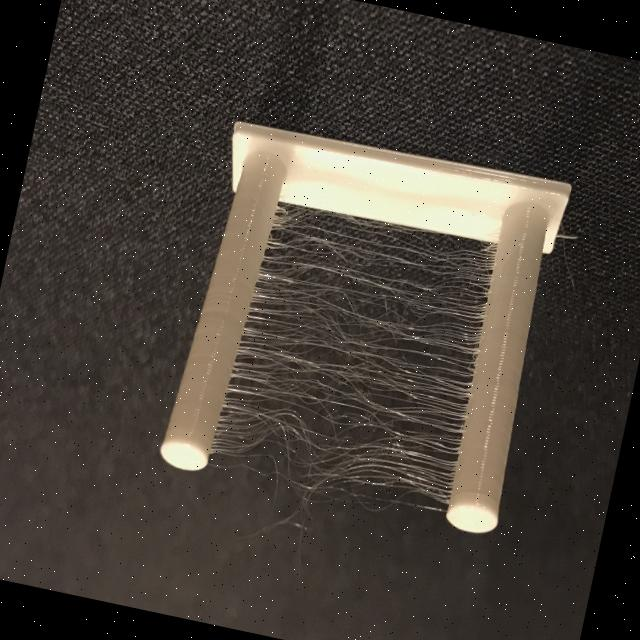stringing: (209, 156, 510, 515)
